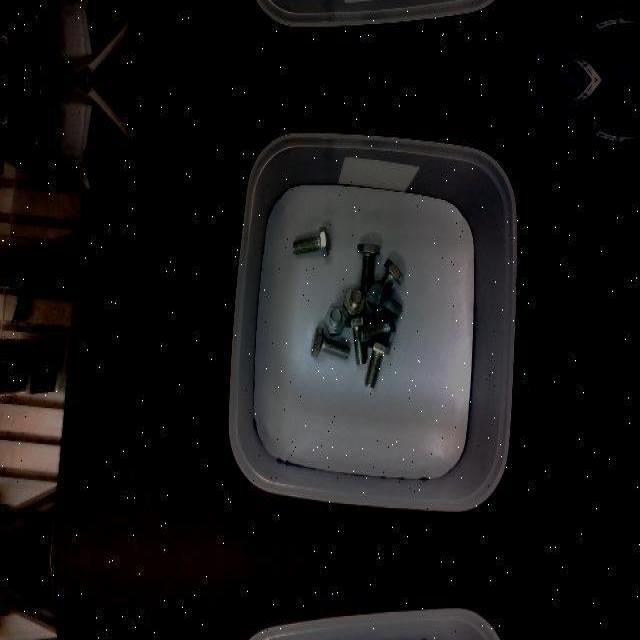screw: (310, 325, 349, 359), (367, 281, 402, 317), (364, 339, 390, 387), (357, 313, 395, 343), (294, 224, 329, 256), (357, 244, 380, 292), (324, 305, 345, 335), (344, 286, 364, 314)
